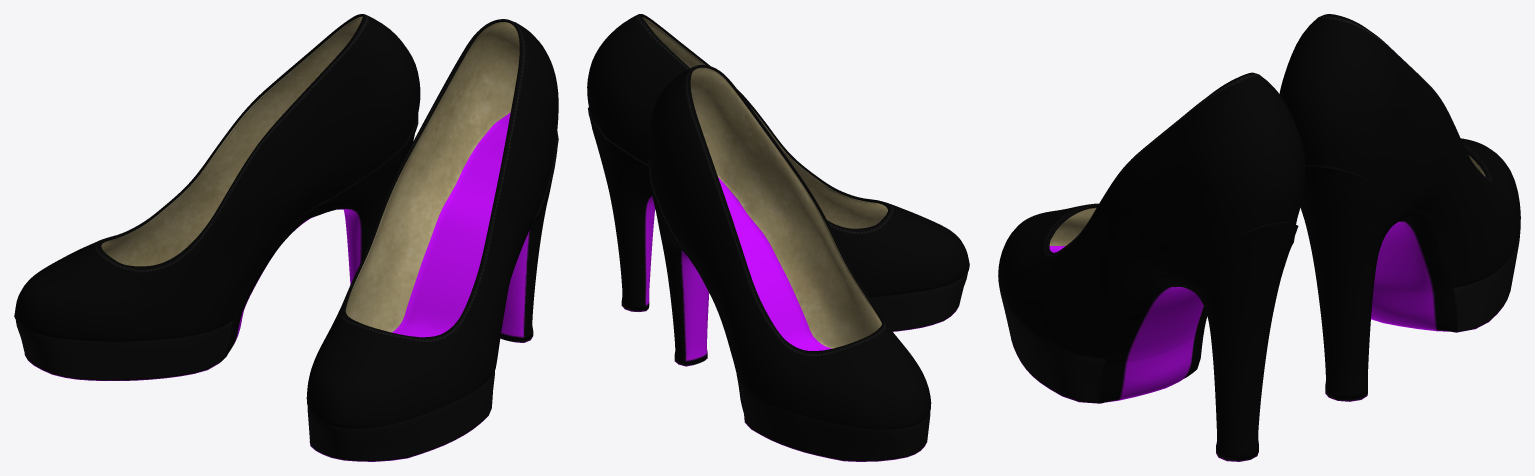
Rendered from heels_gloss.glb.
3 renders of one model, left to right at view 1: azimuth 30°, elevation 25°; view 2: azimuth 150°, elevation 25°; view 3: azimuth 270°, elevation 25°, orthographic. The views are drawn at different scales.
Parts seen in each view (by area): view 1: polySurface2, polySurface4; view 2: polySurface4, polySurface2; view 3: polySurface2, polySurface4.
Boxes of the visible parts, x1,y1,x2,y2 form: polySurface2: (306,19,558,461); polySurface4: (14,14,420,380); polySurface4: (648,65,931,461); polySurface2: (587,14,969,331); polySurface2: (998,72,1305,461); polySurface4: (1279,14,1520,401).
Size of the model in its own units: 0.4781 by 0.3268 by 0.4097.
Materials: 4 (4 with a texture image).
